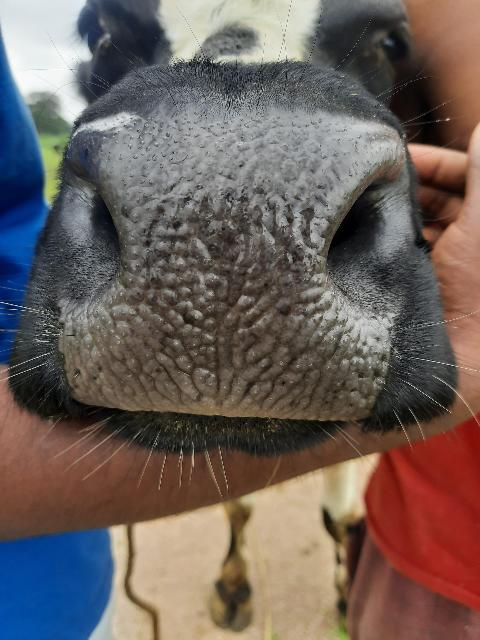Muzzle: (91, 120, 383, 420)
